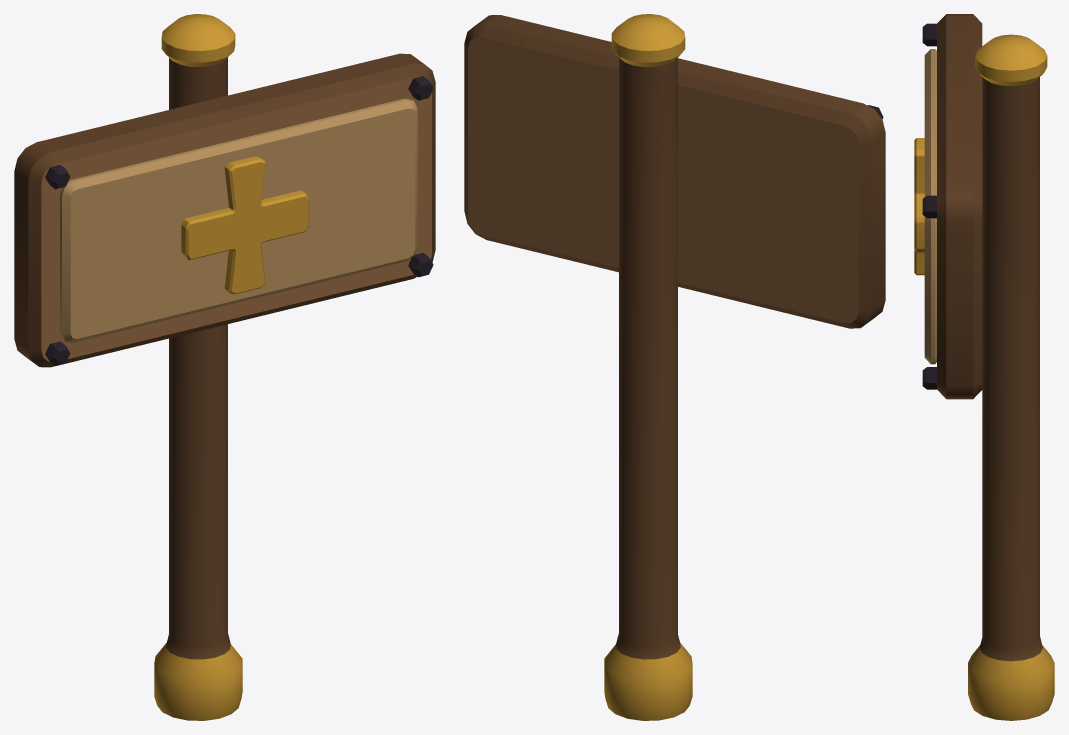
Rendered from Sign_26.glb.
The picture shows the model from 3 angles, left to right: view 1: azimuth 30°, elevation 25°; view 2: azimuth 150°, elevation 25°; view 3: azimuth 270°, elevation 25°; orthographic projection. The views are drawn at different scales.
Parts seen in each view (by area): view 1: Sign_26; view 2: Sign_26; view 3: Sign_26.
Part boxes in pixels (box(x1,y1,x2,y2)): Sign_26: box(14, 14, 435, 720); Sign_26: box(464, 14, 885, 720); Sign_26: box(914, 14, 1054, 720).
Bounding box in the file's own units: 2.21 × 3.55 × 0.68.
